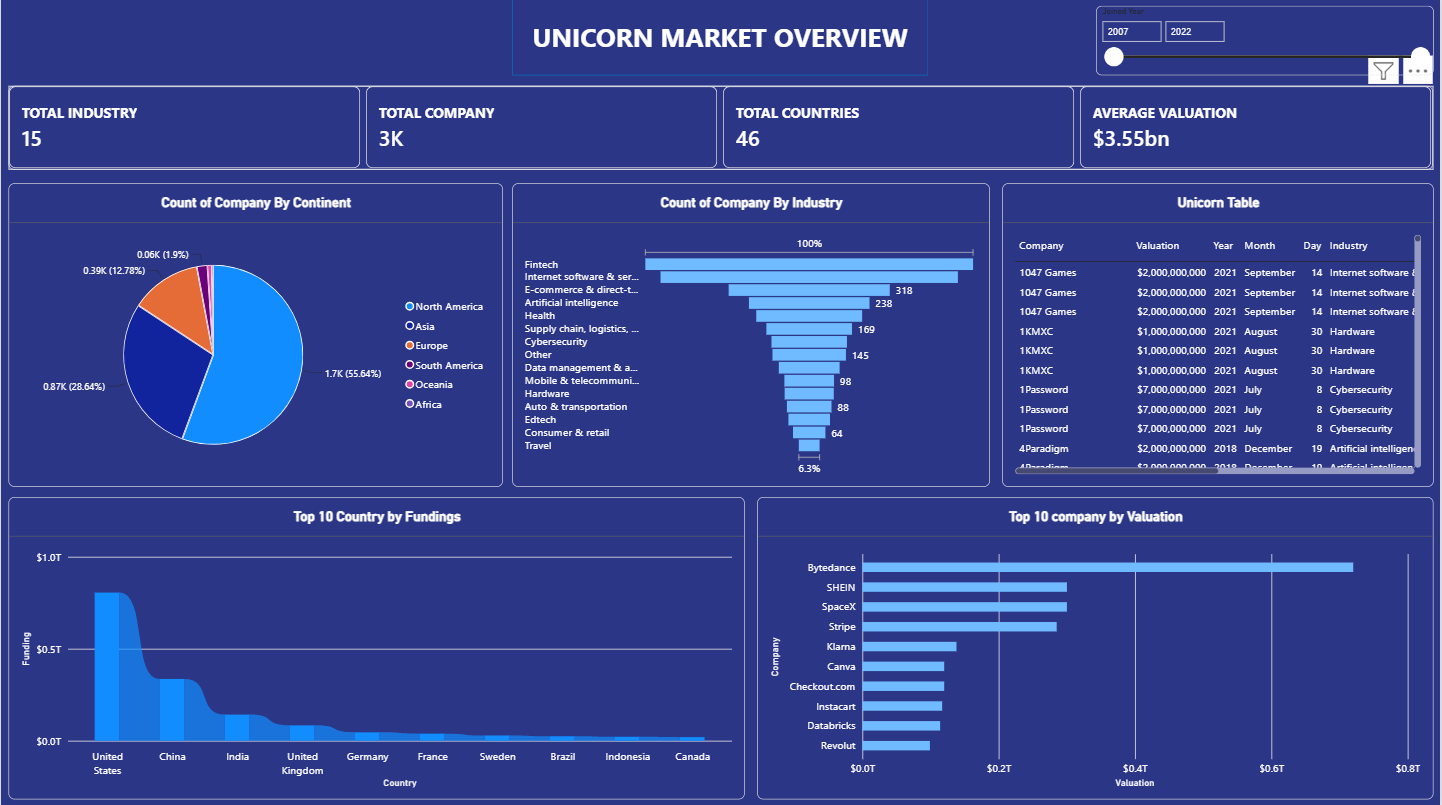

The page's visual inventory and layout, read from the dashboard file:
{"tool":"powerbi","page":{"name":"UNICORN MARKET VIEW","canvas":[1920,1080],"ordinal":0},"visuals":[{"type":"pieChart","title":"Count of Company By Continent","fields":{"Category":["unicorn.Continent"],"Y":["CountNonNull(unicorn.Company)"]},"box":[10.5,247.7,659.3,404.7],"z":0},{"type":"cardVisual","fields":{"Data":["unicorn.total industry","unicorn.total_company","unicorn.total_countries","unicorn.Average valuation"]},"box":[10.5,118.6,1899.4,111.6],"z":1000},{"type":"shape","box":[682,0,554.7,104.7],"z":2000},{"type":"funnel","title":"Count of Company By Industry","fields":{"Category":["unicorn.Industry"],"Y":["CountNonNull(unicorn.Company)"]},"box":[682,247.7,636.6,404.7],"z":3000},{"type":"barChart","title":"Top 10 company by Valuation","fields":{"Category":["unicorn.Company"],"Y":["Sum(unicorn.Valuation)"]},"box":[1008.6,666.9,901.5,403.4],"z":4000},{"type":"tableEx","title":"Unicorn Table","fields":{"Values":["unicorn.Company","unicorn.Valuation","unicorn.Date Joined.Variation.Date Hierarchy.Year","unicorn.Date Joined.Variation.Date Hierarchy.Month","unicorn.Date Joined.Variation.Date Hierarchy.Day","unicorn.Industry","unicorn.Funding","unicorn.Select Investors","unicorn.Years Taken"]},"box":[1334.3,247.7,575.6,404.7],"z":5000},{"type":"ribbonChart","title":"Top 10 Country by Fundings","fields":{"Category":["unicorn.Country"],"Y":["Sum(unicorn.Funding)"]},"box":[10.3,666.9,981.8,403.4],"z":6000},{"type":"slicer","fields":{"Values":["unicorn.Joined Year"]},"box":[1459.9,12.2,450,92.4],"z":7000}]}

Visuals, with their boxes in screenshot pixels (x1, y1, x2, y2), scaled from the page's 1920x1080 canvas onto the 1442x805 screenshot:
"Count of Company By Continent" pieChart: pyautogui.locateOnScreen(8, 185, 503, 486)
cardVisual - unicorn.total industry x unicorn.total_company: pyautogui.locateOnScreen(8, 88, 1434, 172)
shape: pyautogui.locateOnScreen(512, 0, 929, 78)
"Count of Company By Industry" funnel: pyautogui.locateOnScreen(512, 185, 990, 486)
"Top 10 company by Valuation" barChart: pyautogui.locateOnScreen(758, 497, 1435, 798)
"Unicorn Table" tableEx: pyautogui.locateOnScreen(1002, 185, 1434, 486)
"Top 10 Country by Fundings" ribbonChart: pyautogui.locateOnScreen(8, 497, 745, 798)
slicer - unicorn.Joined Year: pyautogui.locateOnScreen(1096, 9, 1434, 78)
